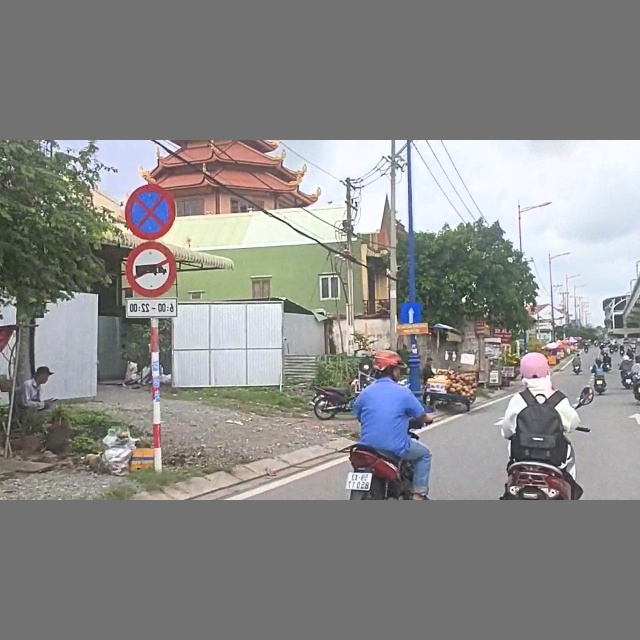B.8a: (127, 241, 177, 297)
I.407a: (399, 301, 423, 325)
P.130: (124, 183, 176, 240)
